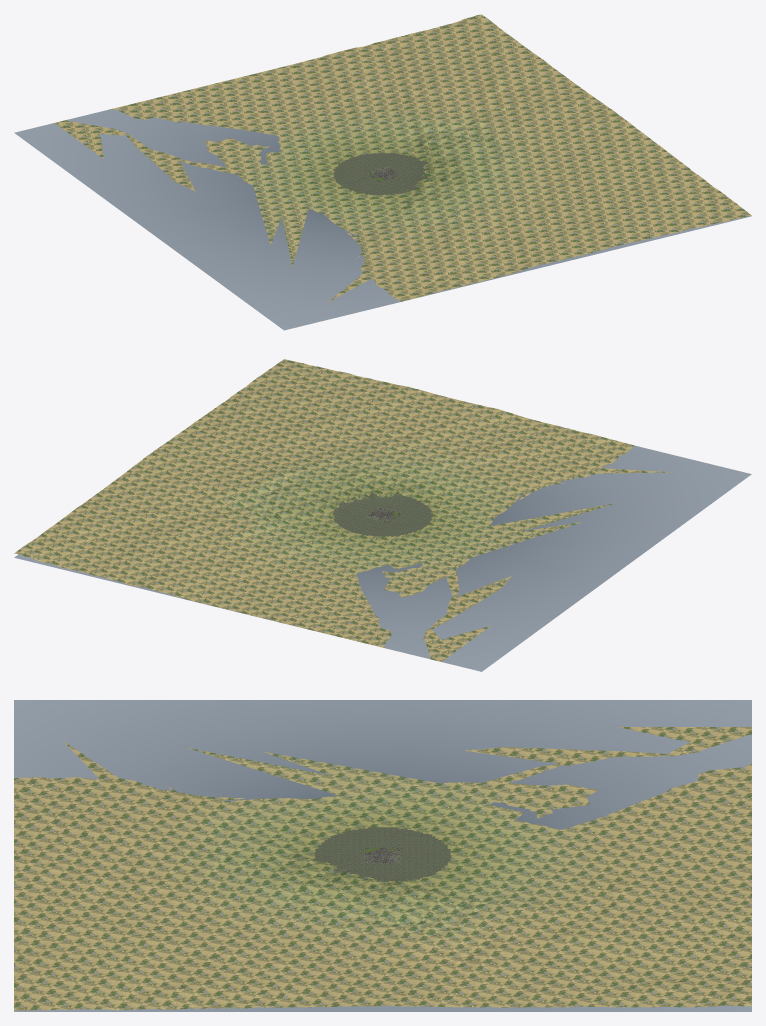
Rendered from norwood_backdrop_part1.glb.
3 views of the same model, one above another, from view 1: azimuth 30°, elevation 25°; view 2: azimuth 150°, elevation 25°; view 3: azimuth 270°, elevation 25° (orthographic). The views are drawn at different scales.
Visible parts, largest first — view 1: bg_far_terrain, bg_far_water, bg_far_suburb; view 2: bg_far_terrain, bg_far_water, bg_far_suburb; view 3: bg_far_terrain, bg_far_water, bg_far_suburb, bg_near_ground.
Part boxes in pixels (left/top/right/bottom): bg_far_terrain: left=55, top=14, right=751, bottom=302; bg_far_water: left=14, top=109, right=751, bottom=330; bg_far_suburb: left=333, top=153, right=430, bottom=195; bg_far_terrain: left=14, top=359, right=671, bottom=661; bg_far_water: left=14, top=445, right=751, bottom=671; bg_far_suburb: left=333, top=493, right=432, bottom=536; bg_far_terrain: left=14, top=727, right=751, bottom=1010; bg_far_water: left=14, top=700, right=751, bottom=1011; bg_far_suburb: left=315, top=827, right=450, bottom=882; bg_near_ground: left=364, top=847, right=401, bottom=862.
Size of the model in its own units: 60001 by 703 by 60002.
Materials: 31 (20 with a texture image).
